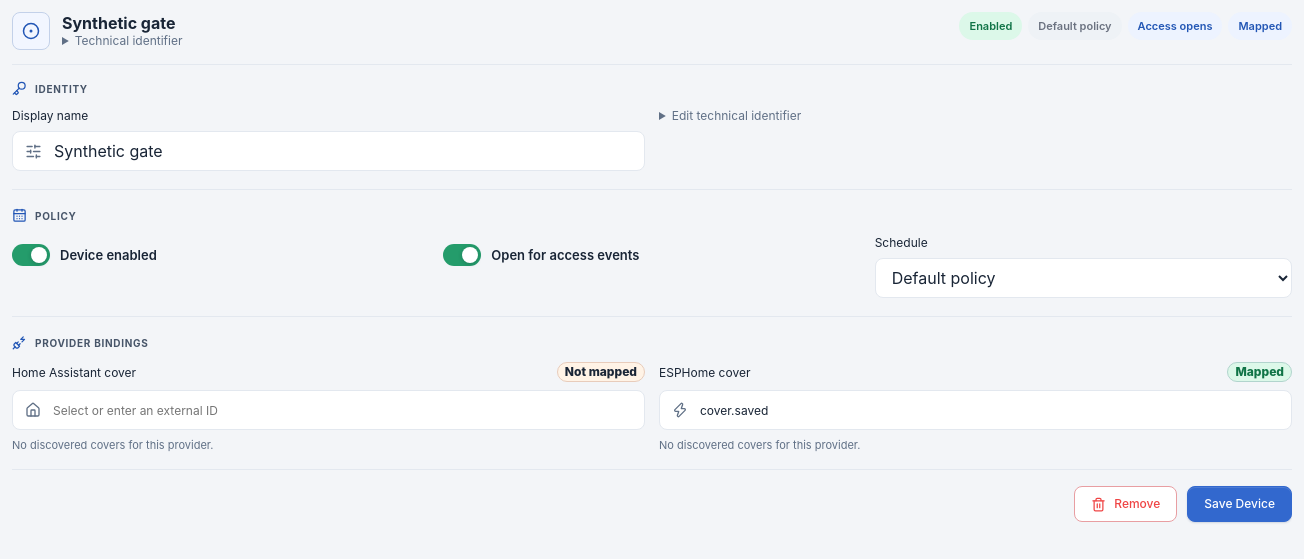
Scenario: retains a missing saved ESPHome choice and its config until an explicit operator change
Expected: the field labelled "ESPHome cover Mapped No discovered covers for this provider." holds "cover.saved", [698, 402, 1279, 419]
Click the button "Save Device" at (1240,504), box [1187, 486, 1292, 522]
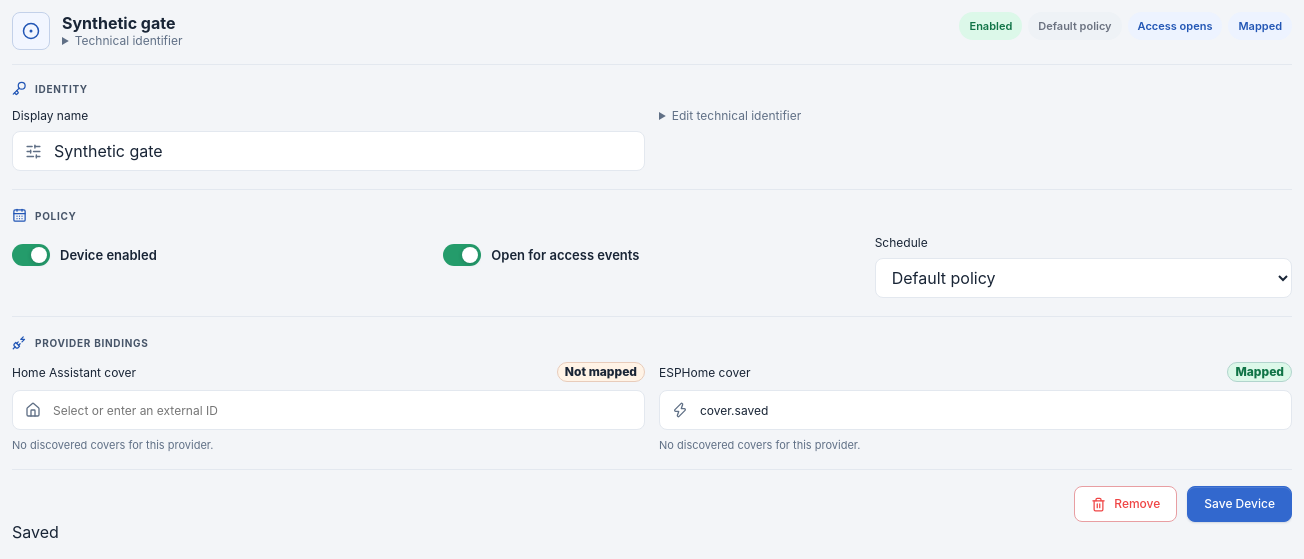
Expected: the text "Saved" is shown, [12, 522, 59, 542]
